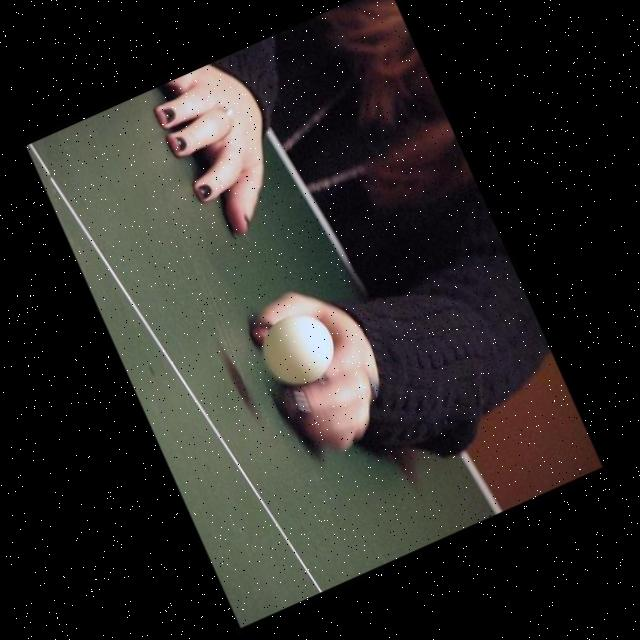ping-pong-ball: (248, 300, 346, 397)
